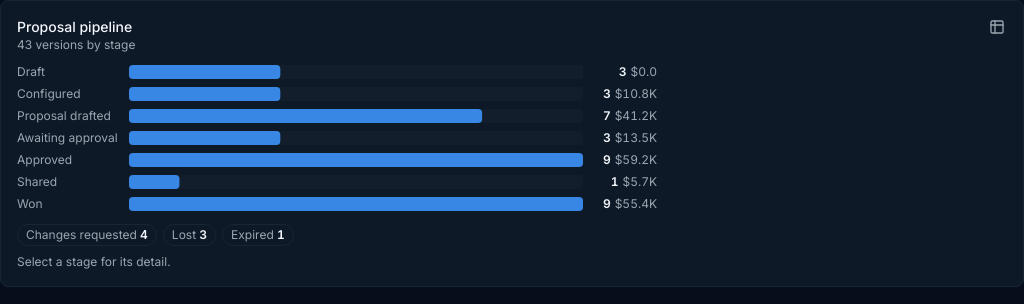
Test case: StageFunnel › pins a stage's detail on click and releases it on a second click
The width and height of the screenshot is (1024, 304).
Expected: the text "Select a stage for its detail." is shown, [17,254,171,269]
Click the button with aria-label "Approved: 9 versions". click: (512, 160)
box: [17,149,1007,171]
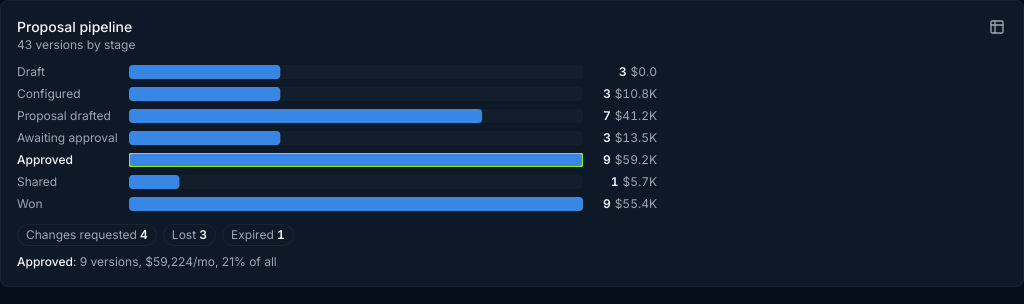
Expected: the text "Approved: 9 versions, $59,224/mo, 21% of all" is shown, [17,254,277,269]
Click the button with aria-label "Approved: 9 versions". click: (512, 160)
box: [17,149,1007,171]
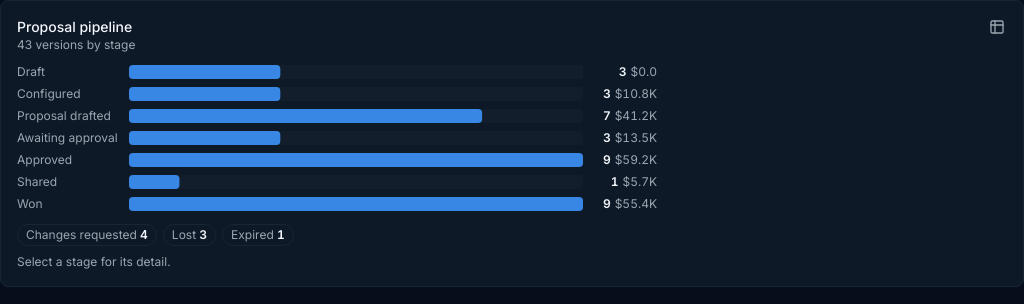
Expected: the text "Select a stage for its detail." is shown, [17,254,171,269]
